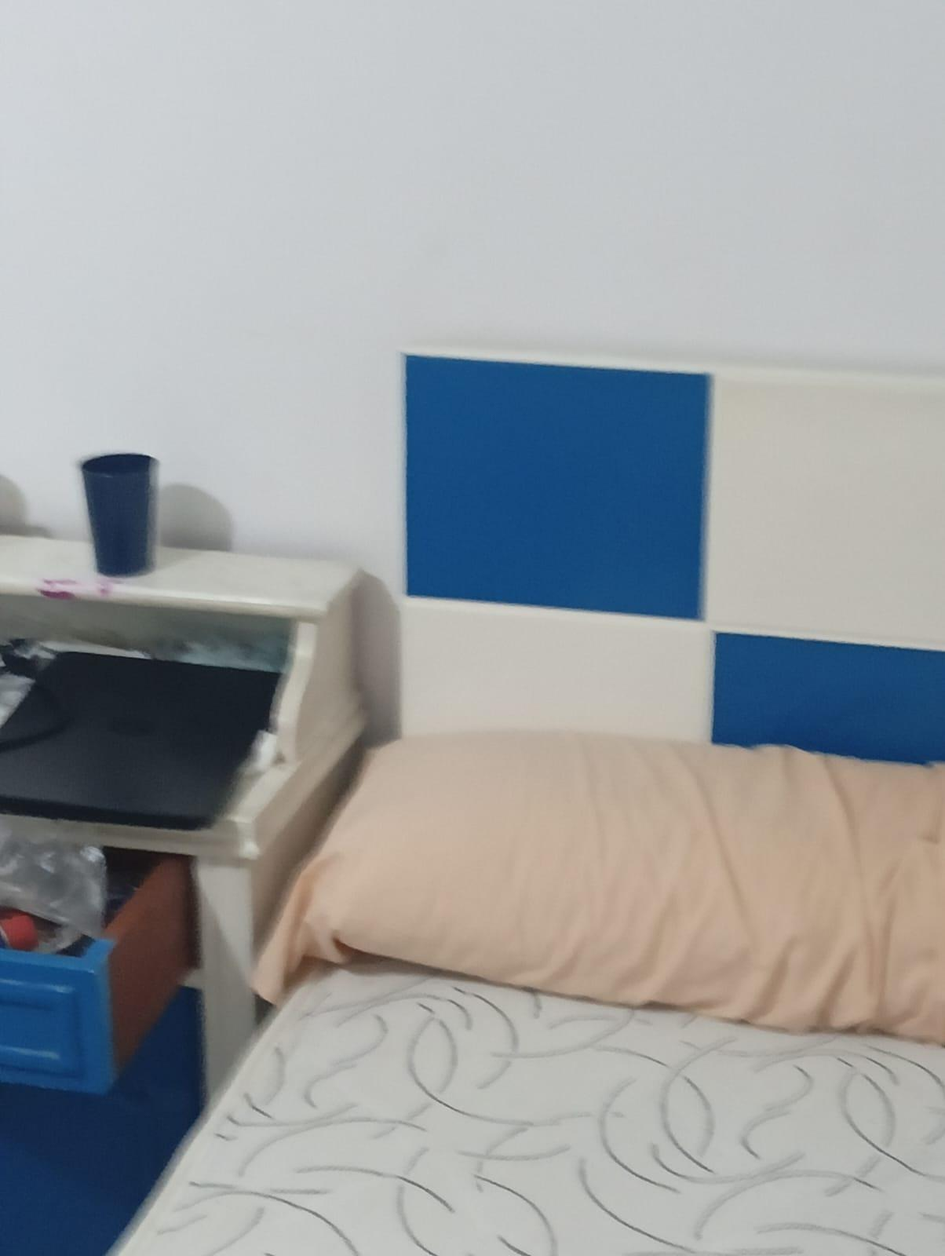cup: (80, 453, 158, 577)
